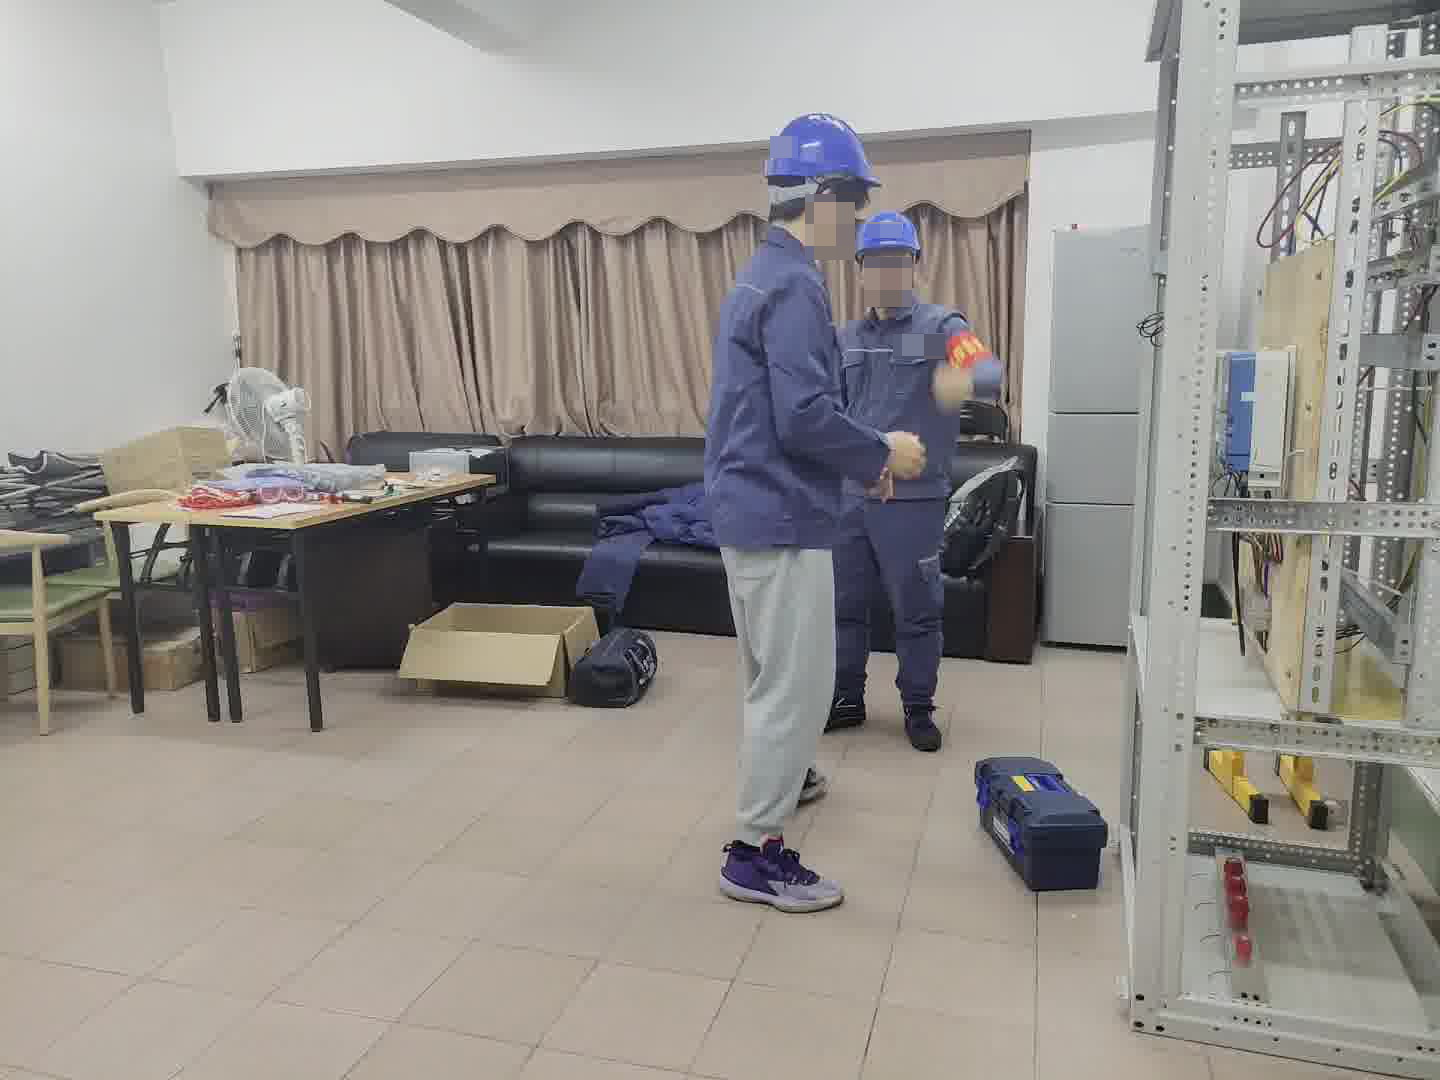badge: (945, 329, 995, 371)
downcloth: (714, 544, 834, 836)
downsuit: (832, 500, 952, 699)
halt: (759, 113, 877, 230), (850, 208, 926, 308)
hand: (890, 431, 925, 478)
noear: (811, 189, 846, 244)
person: (693, 117, 867, 931), (824, 208, 1007, 748)
upsuit: (696, 235, 888, 509), (836, 297, 1006, 505)
